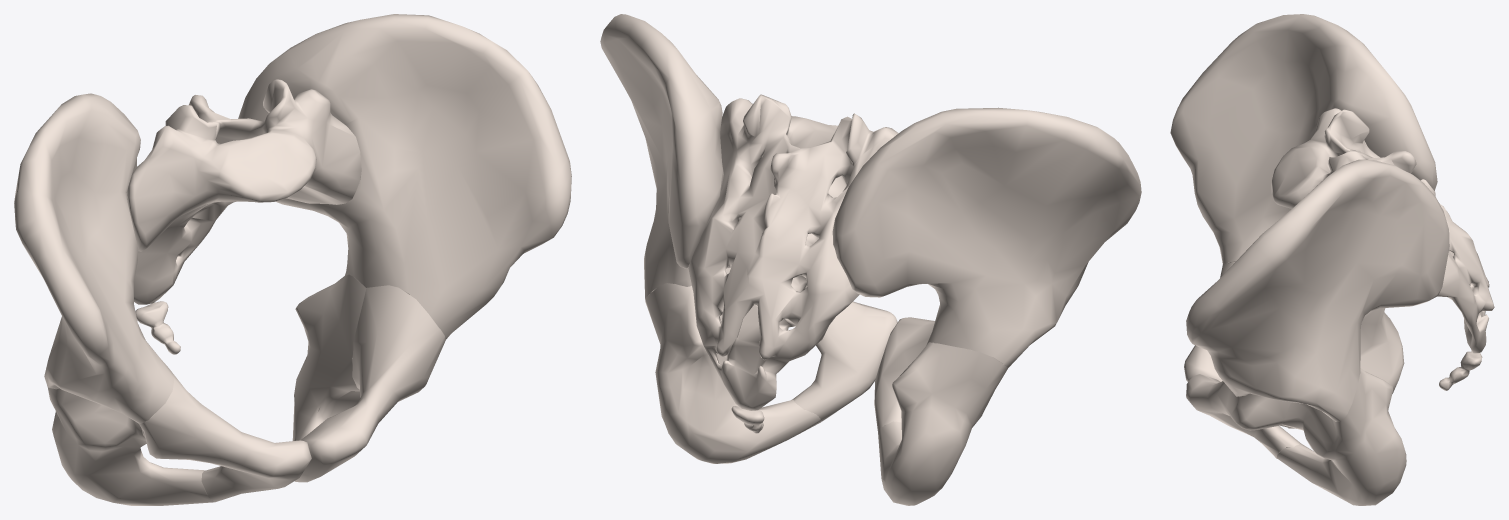
File: pelvis.glb
3 views of the same model, side by side, from view 1: azimuth 30°, elevation 25°; view 2: azimuth 150°, elevation 25°; view 3: azimuth 270°, elevation 25° (orthographic). The views are drawn at different scales.
Visible parts, largest first — view 1: VH_M_ilium_compact_bone_L, VH_M_ilium_compact_bone_R, VH_M_sacrum, VH_M_pubis_compact_bone_L, VH_M_ischium_compact_bone_R, VH_M_pubis_compact_bone_R, VH_M_ischium_compact_bone_L, VH_M_coccyx; view 2: VH_M_ilium_compact_bone_R, VH_M_sacrum, VH_M_ilium_compact_bone_L, VH_M_ischium_compact_bone_R, VH_M_ischium_compact_bone_L, VH_M_pubis_compact_bone_L, VH_M_pubis_compact_bone_R; view 3: VH_M_ilium_compact_bone_L, VH_M_ilium_compact_bone_R, VH_M_ischium_compact_bone_L, VH_M_sacrum, VH_M_pubis_compact_bone_L, VH_M_ischium_compact_bone_R, VH_M_pubis_compact_bone_R, VH_M_coccyx.
Part boxes in pixels (x1,y1,x2,y2): VH_M_ilium_compact_bone_L: (238, 14, 571, 339); VH_M_ilium_compact_bone_R: (14, 93, 174, 423); VH_M_sacrum: (127, 79, 361, 304); VH_M_pubis_compact_bone_L: (294, 285, 445, 482); VH_M_ischium_compact_bone_R: (47, 385, 214, 505); VH_M_pubis_compact_bone_R: (138, 368, 311, 502); VH_M_ischium_compact_bone_L: (292, 274, 366, 440); VH_M_coccyx: (135, 301, 180, 354); VH_M_ilium_compact_bone_R: (832, 107, 1141, 367); VH_M_sacrum: (688, 94, 898, 410); VH_M_ilium_compact_bone_L: (600, 14, 723, 299); VH_M_ischium_compact_bone_R: (878, 342, 1007, 505); VH_M_ischium_compact_bone_L: (645, 268, 821, 463); VH_M_pubis_compact_bone_L: (792, 301, 897, 421); VH_M_pubis_compact_bone_R: (874, 317, 934, 431); VH_M_ilium_compact_bone_L: (1186, 159, 1449, 421); VH_M_ilium_compact_bone_R: (1170, 14, 1437, 264); VH_M_ischium_compact_bone_L: (1276, 368, 1406, 505); VH_M_sacrum: (1271, 108, 1494, 353); VH_M_pubis_compact_bone_L: (1186, 374, 1300, 458); VH_M_ischium_compact_bone_R: (1287, 308, 1404, 428); VH_M_pubis_compact_bone_R: (1184, 262, 1291, 427); VH_M_coccyx: (1439, 351, 1482, 390).
Size of the model in its own units: 0.2832 by 0.2183 by 0.1728.
